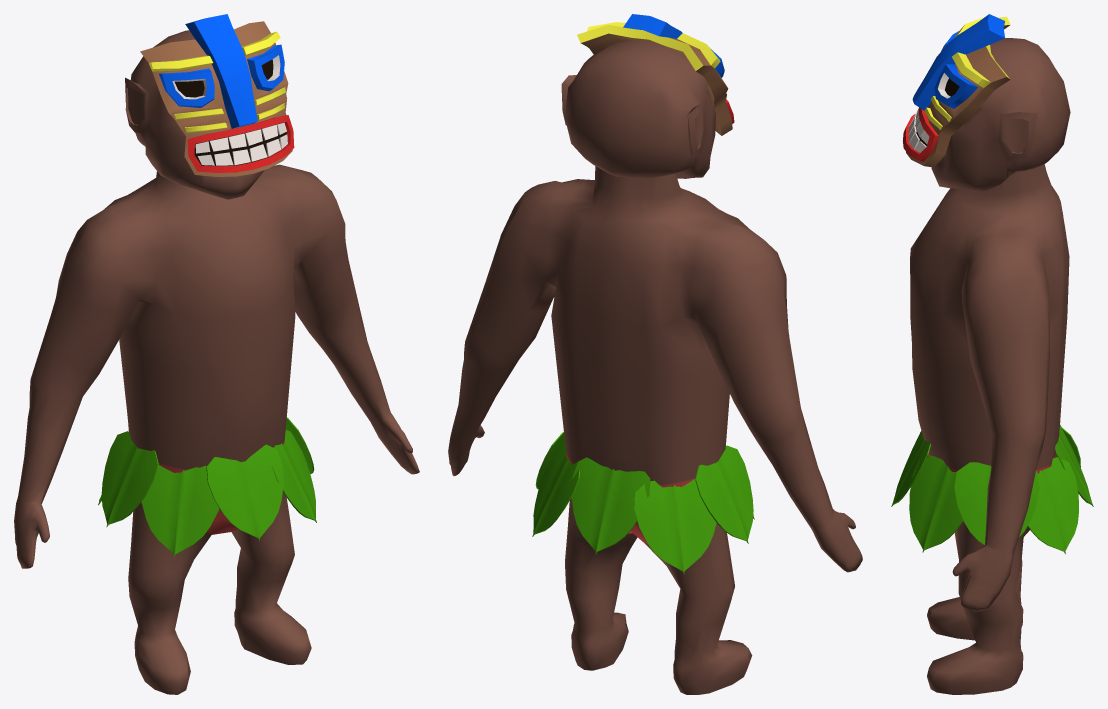
Rendered from locals_01.fbx.
3 renders of one model, left to right at view 1: azimuth 30°, elevation 25°; view 2: azimuth 150°, elevation 25°; view 3: azimuth 270°, elevation 25°, orthographic. The views are drawn at different scales.
Visible parts, largest first — view 1: min002; view 2: min002; view 3: min002.
Boxes of the visible parts, box(x1,y1,x2,y2) form: min002: box(14, 14, 419, 694); min002: box(448, 14, 862, 694); min002: box(891, 14, 1093, 694).
Size of the model in its own units: 90.44 by 141 by 40.66.
